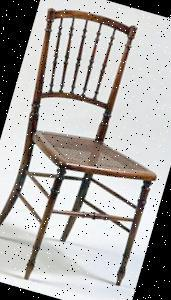Silla: (0, 1, 170, 299)
